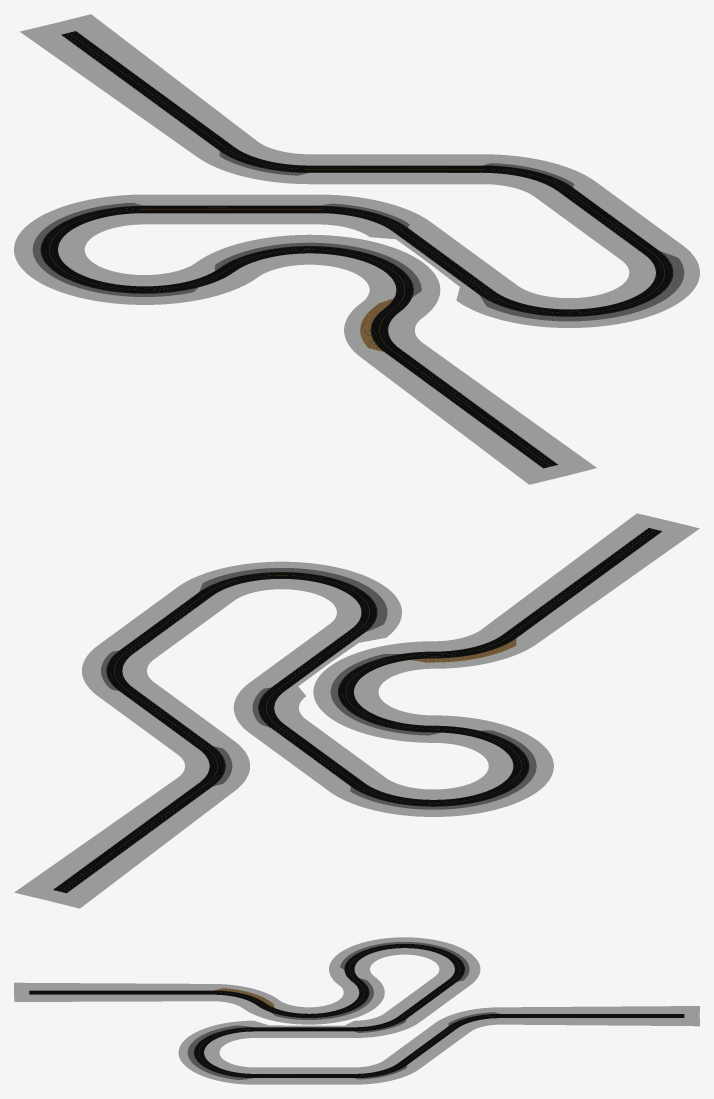
The model's file is race5.fbx.
3 renders of one model, top to bottom at view 1: azimuth 30°, elevation 25°; view 2: azimuth 150°, elevation 25°; view 3: azimuth 270°, elevation 25°, orthographic. The views are drawn at different scales.
Parts seen in each view (by area): view 1: persp1; view 2: persp1; view 3: persp1.
Boxes of the visible parts, bbox=[...] form: persp1: bbox=[14, 14, 699, 484]; persp1: bbox=[14, 513, 699, 908]; persp1: bbox=[14, 937, 699, 1084].
Size of the model in its own units: 54003 by 1.35e-11 by 106220.
